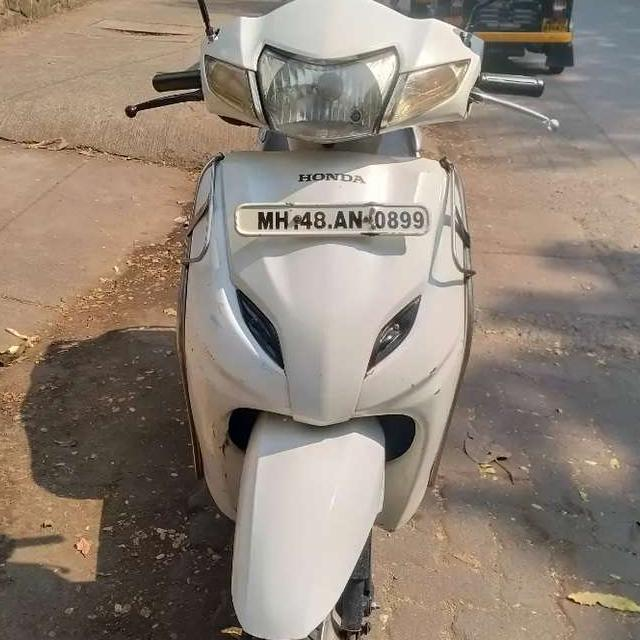Indian_Number_Plate: (241, 202, 427, 235)
